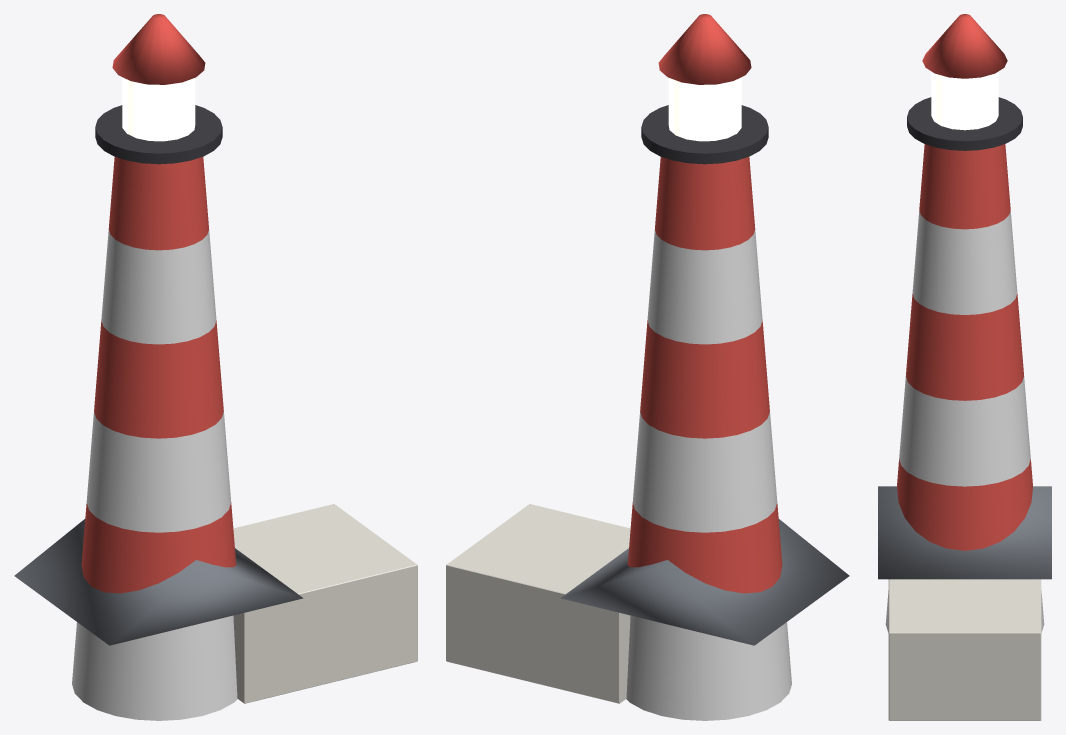
The model's file is lighthouse.glb.
3 renders of one model, left to right at view 1: azimuth 30°, elevation 25°; view 2: azimuth 150°, elevation 25°; view 3: azimuth 270°, elevation 25°, orthographic. The views are drawn at different scales.
Visible parts, largest first — view 1: lighthouse; view 2: lighthouse; view 3: lighthouse.
Part boxes in pixels (<box>): lighthouse: <box>14,14,417,720</box>; lighthouse: <box>446,14,849,720</box>; lighthouse: <box>878,14,1051,720</box>.
Bounding box in the file's own units: 10.85 × 22 × 5.7.
